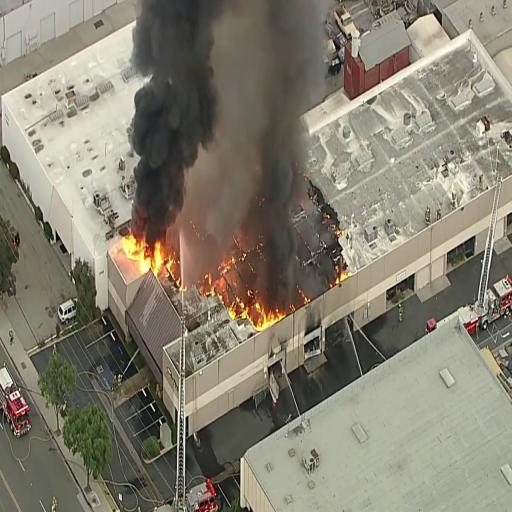fire: (111, 225, 171, 279)
smoke: (241, 1, 305, 244), (128, 8, 190, 216)
